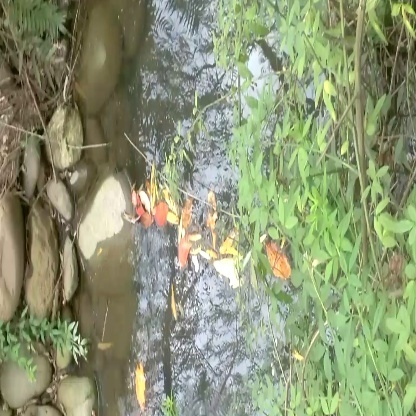leaf: (171, 224, 209, 271)
